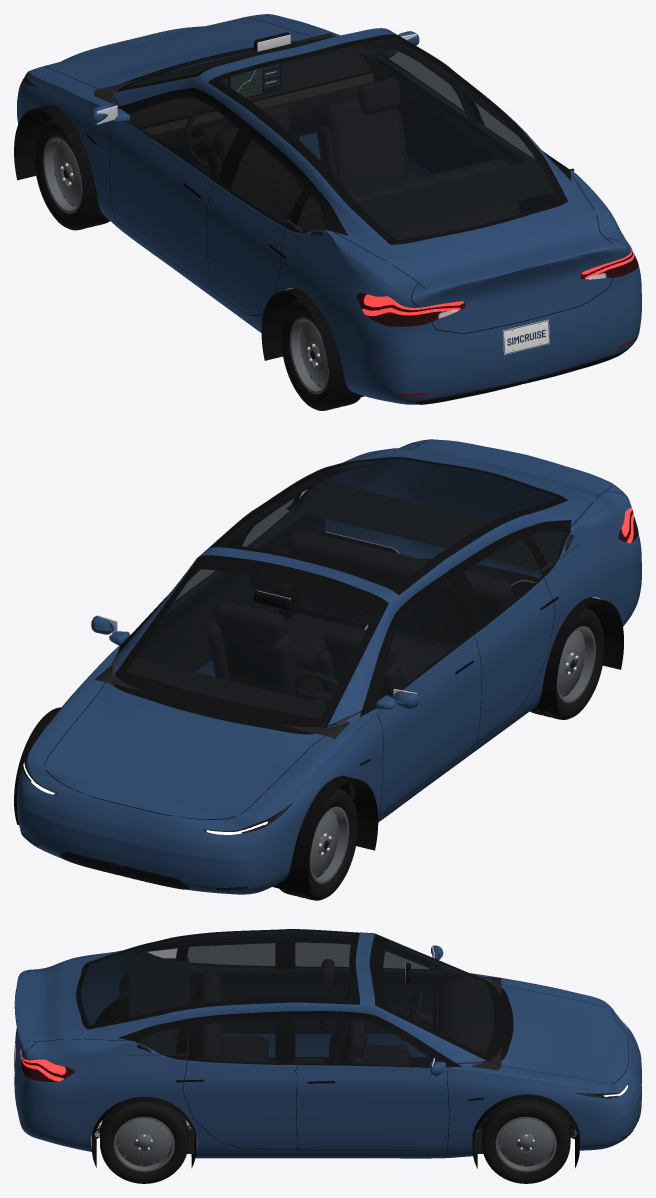
Rendered from volta.glb.
The picture shows the model from 3 angles, top to bottom: view 1: azimuth 30°, elevation 25°; view 2: azimuth 150°, elevation 25°; view 3: azimuth 270°, elevation 25°; orthographic projection. The views are drawn at different scales.
Visible parts, largest first — view 1: body, lining, dash, parcel_shelf, seat_back, seat_back.001, rear_back, liner_f.001, liner_r.001, taillamp_l, wheel_fl, wheel_rl (+11 smaller); view 2: body, rear_back, lining, parcel_shelf, dash, liner_f.001, rear_cushion, liner_r.001, seat_back, screen_bezel, wheel_fl, wheel_rl (+11 smaller); view 3: body, lining, dash, parcel_shelf, wheel_fr, wheel_rr, rear_back, wheel_fr_aeroface, wheel_rr_aeroface, rear_cushion, liner_f, taillamp (+9 smaller).
Boxes of the visible parts, left/top/right/bottom form: body: left=17, top=14, right=641, bottom=404; lining: left=111, top=38, right=574, bottom=235; dash: left=94, top=33, right=373, bottom=163; parcel_shelf: left=285, top=159, right=553, bottom=248; seat_back: left=324, top=97, right=407, bottom=194; seat_back.001: left=214, top=127, right=296, bottom=225; rear_back: left=287, top=159, right=520, bottom=239; liner_f.001: left=14, top=105, right=108, bottom=226; liner_r.001: left=261, top=288, right=364, bottom=405; taillamp_l: left=356, top=293, right=465, bottom=326; wheel_fl: left=34, top=118, right=109, bottom=230; wheel_rl: left=281, top=299, right=360, bottom=410; body: left=17, top=439, right=641, bottom=894; rear_back: left=287, top=530, right=514, bottom=646; lining: left=111, top=463, right=574, bottom=728; parcel_shelf: left=287, top=482, right=580, bottom=571; dash: left=94, top=658, right=356, bottom=800; liner_f.001: left=272, top=775, right=378, bottom=896; rear_cushion: left=286, top=614, right=448, bottom=685; liner_r.001: left=511, top=581, right=623, bottom=714; seat_back: left=214, top=601, right=288, bottom=692; screen_bezel: left=228, top=638, right=281, bottom=686; wheel_fl: left=279, top=788, right=357, bottom=900; wheel_rl: left=530, top=608, right=604, bottom=719; body: left=14, top=929, right=641, bottom=1158; lining: left=104, top=933, right=492, bottom=1064; dash: left=437, top=977, right=501, bottom=1132; parcel_shelf: left=129, top=958, right=188, bottom=1055; wheel_fr: left=482, top=1100, right=570, bottom=1183; wheel_rr: left=100, top=1101, right=188, bottom=1183; rear_back: left=186, top=972, right=221, bottom=1060; wheel_fr_aeroface: left=498, top=1118, right=553, bottom=1165; wheel_rr_aeroface: left=116, top=1118, right=171, bottom=1165; rear_cushion: left=221, top=1036, right=268, bottom=1062; liner_f: left=472, top=1094, right=579, bottom=1168; taillamp: left=20, top=1047, right=74, bottom=1081.
Size of the model in its own units: 2.19 by 1.44 by 4.73.
Materials: 25 (6 with a texture image).
